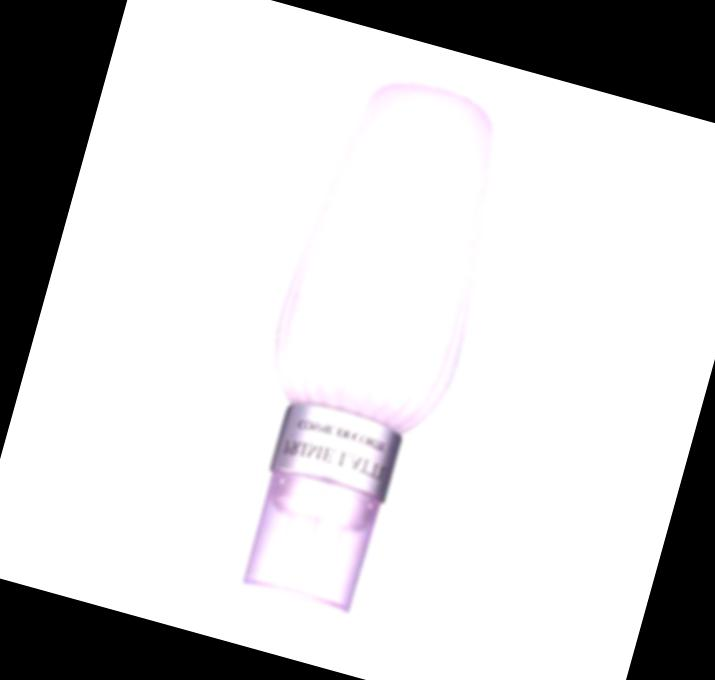cosmetic: (218, 62, 523, 628)
